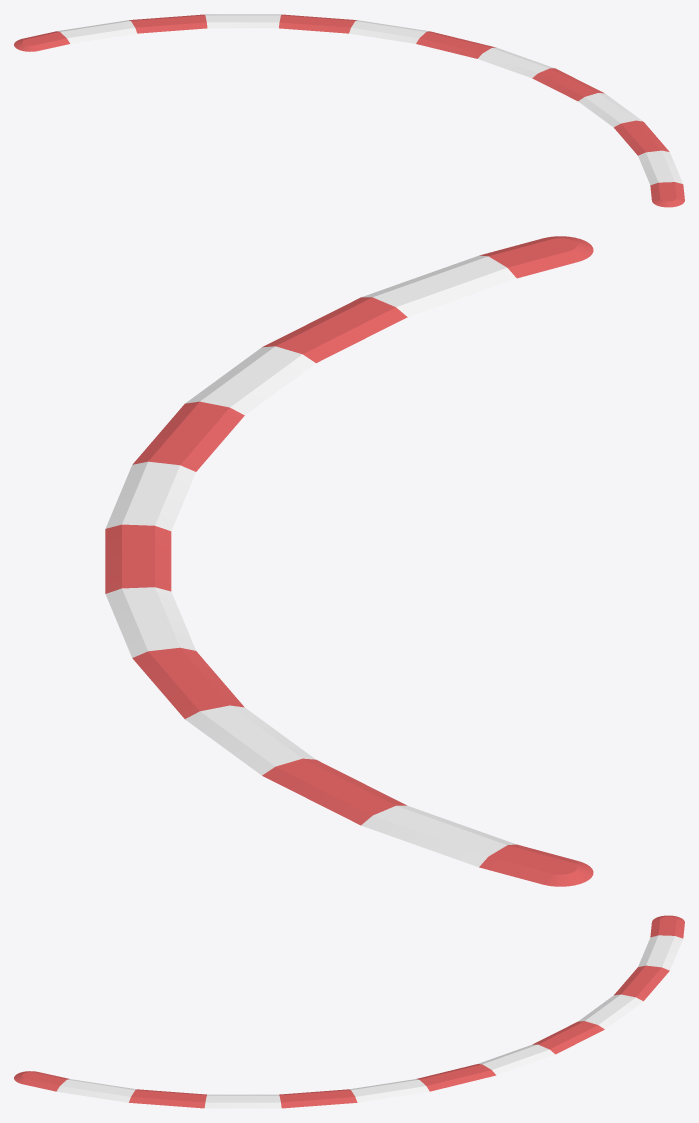
File: Prop_Raceline_Curve_Sharp_Outer.glb
3 renders of one model, top to bottom at view 1: azimuth 30°, elevation 25°; view 2: azimuth 150°, elevation 25°; view 3: azimuth 270°, elevation 25°, orthographic. The views are drawn at different scales.
Visible parts, largest first — view 1: object1; view 2: object1; view 3: object1.
Boxes of the visible parts, bbox=[...] form: object1: bbox=[14, 14, 684, 207]; object1: bbox=[105, 236, 593, 886]; object1: bbox=[14, 915, 684, 1108].
Size of the model in its own units: 0.5461 by 0.0033 by 0.8023.
